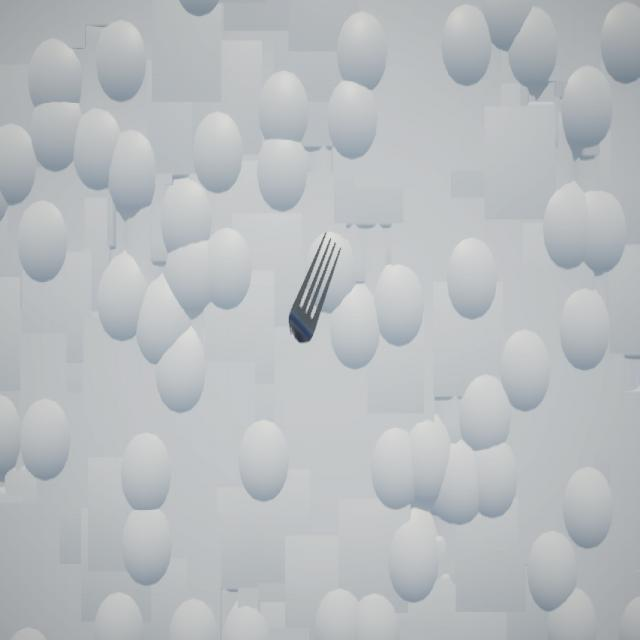top_folk: (289, 234, 342, 344)
